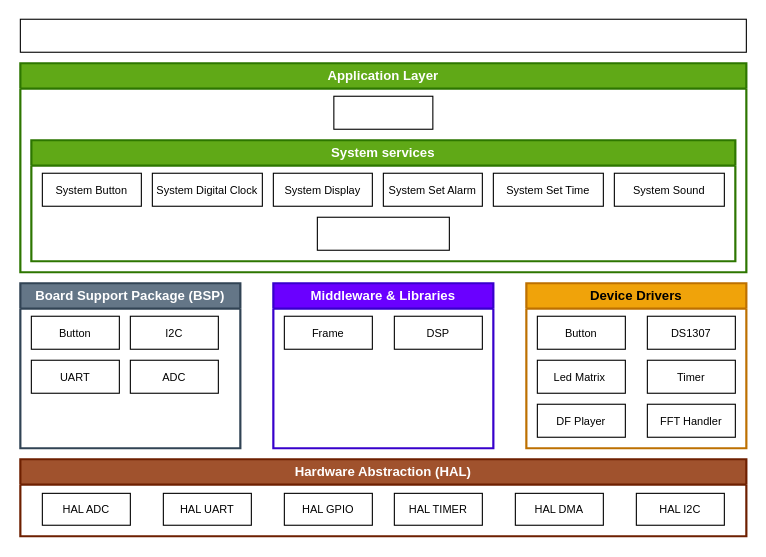
Some shapes in this 766 by 557 pixel diagram are drawn without their labels. The centre of each missing label's shape, as x and y in pixels:
"FIRMWARE ARCHITECTURE" goes at point 382,35.
"System Manager" goes at point 383,112.
"System PC Control" goes at point 382,233.
